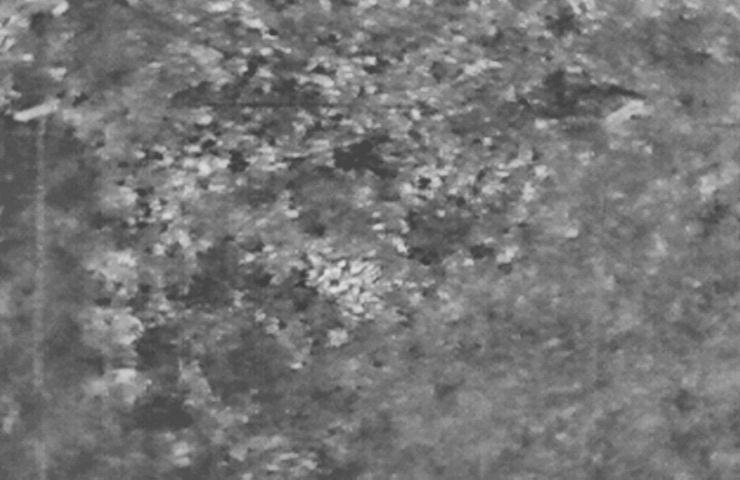landmines: (309, 234, 394, 308)
